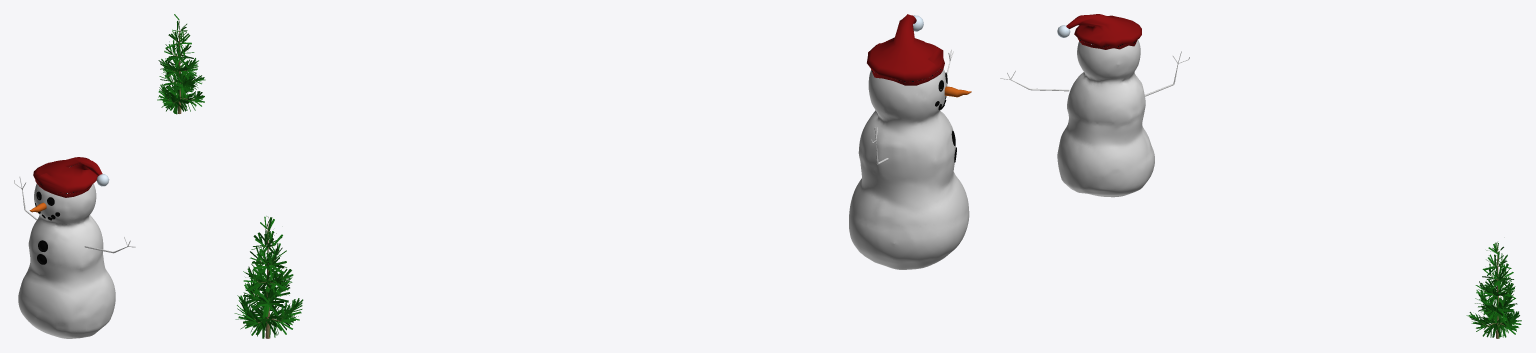
File: Snowman.fbx
3 views of the same model, side by side, from view 1: azimuth 30°, elevation 25°; view 2: azimuth 150°, elevation 25°; view 3: azimuth 270°, elevation 25° (orthographic). The views are drawn at different scales.
Parts seen in each view (by area): view 1: Snowman, leaves.007, Hat, Arms, tree.002, Buttons; view 2: Snowman, leaves.007, Hat; view 3: Snowman, leaves.007, Hat.
Boxes of the visible parts, left/top/right/bottom form: Snowman: left=18, top=183, right=115, bottom=338; leaves.007: left=157, top=14, right=205, bottom=114; Hat: left=33, top=157, right=109, bottom=197; Arms: left=14, top=176, right=135, bottom=253; tree.002: left=168, top=21, right=198, bottom=113; Buttons: left=37, top=240, right=47, bottom=264; Snowman: left=849, top=69, right=969, bottom=269; leaves.007: left=234, top=216, right=303, bottom=338; Hat: left=867, top=14, right=944, bottom=85; Snowman: left=1057, top=39, right=1154, bottom=197; leaves.007: left=1466, top=242, right=1521, bottom=338; Hat: left=1057, top=14, right=1141, bottom=49.
Size of what is drawn, in the model's own units: 745 by 350 by 896.
